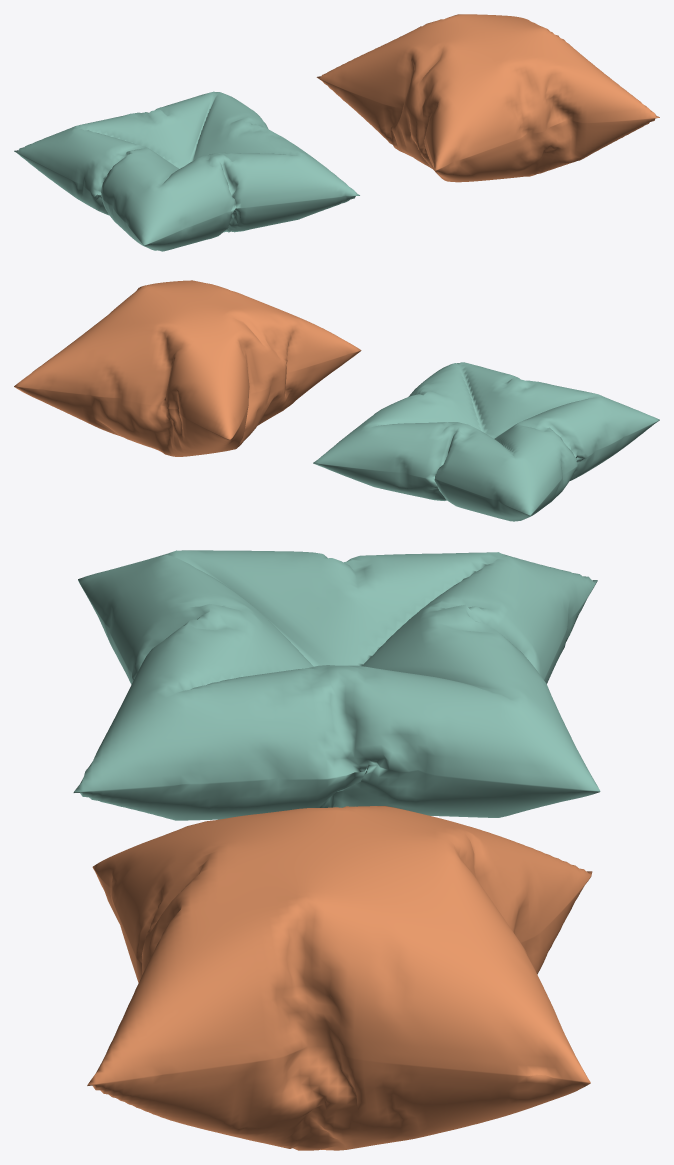
Rendered from Pillow.fbx.
3 renders of one model, top to bottom at view 1: azimuth 30°, elevation 25°; view 2: azimuth 150°, elevation 25°; view 3: azimuth 270°, elevation 25°, orthographic. The views are drawn at different scales.
Parts seen in each view (by area): view 1: Tyyny, Tyyny napilla; view 2: Tyyny, Tyyny napilla; view 3: Tyyny, Tyyny napilla.
Part boxes in pixels (x1,y1,x2,y2): Tyyny: (316, 14, 659, 182); Tyyny napilla: (14, 91, 359, 251); Tyyny: (14, 280, 361, 456); Tyyny napilla: (313, 362, 659, 521); Tyyny: (87, 806, 592, 1150); Tyyny napilla: (73, 550, 600, 820).
Bounding box in the file's own units: 0.8649 × 0.207 × 0.3803.
